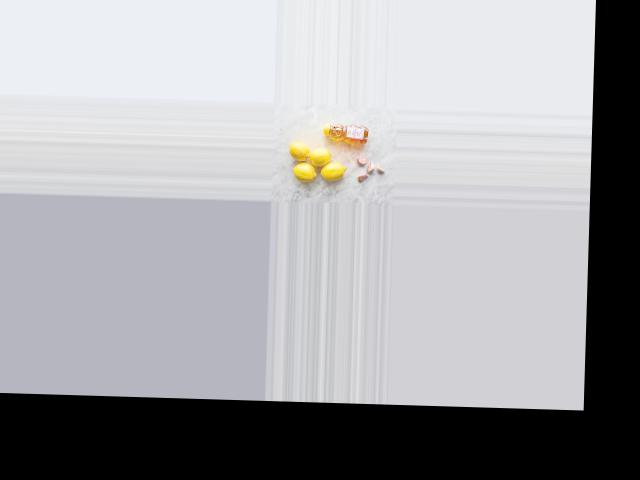lemon: (318, 158, 347, 184)
